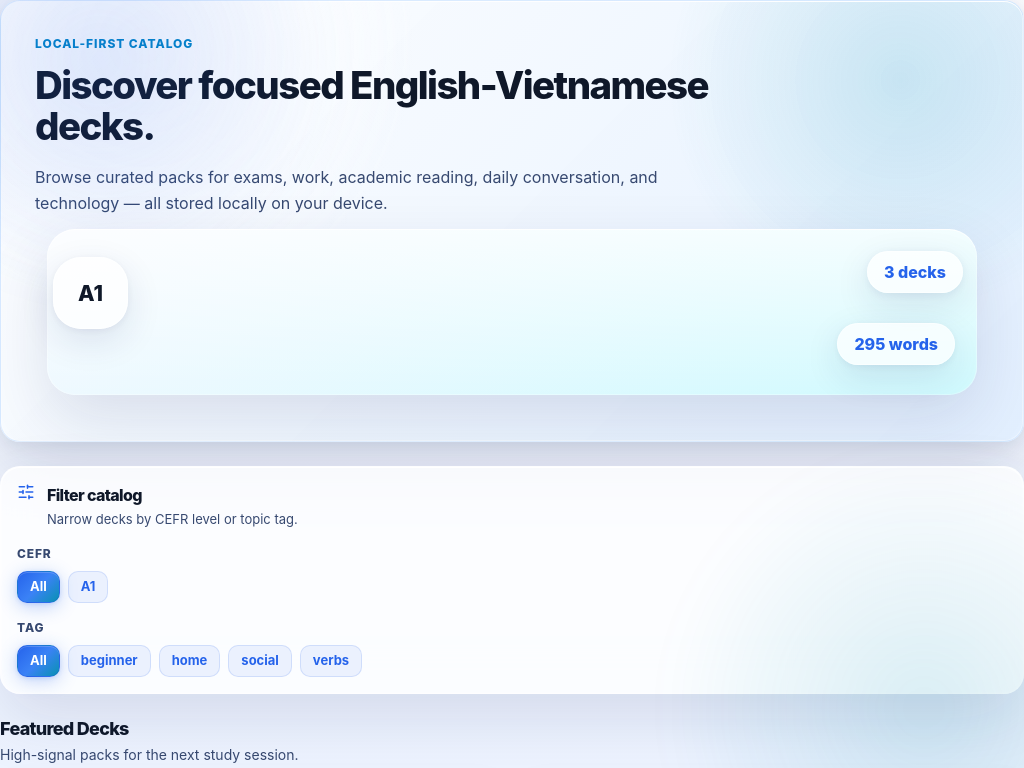
DiscoverPage › tag filter narrows deck list, resetting restores all decks
The width and height of the screenshot is (1024, 768).
// Filter to a single-deck tag
Click the button "verbs". click: (331, 661)
box: [300,645,362,677]
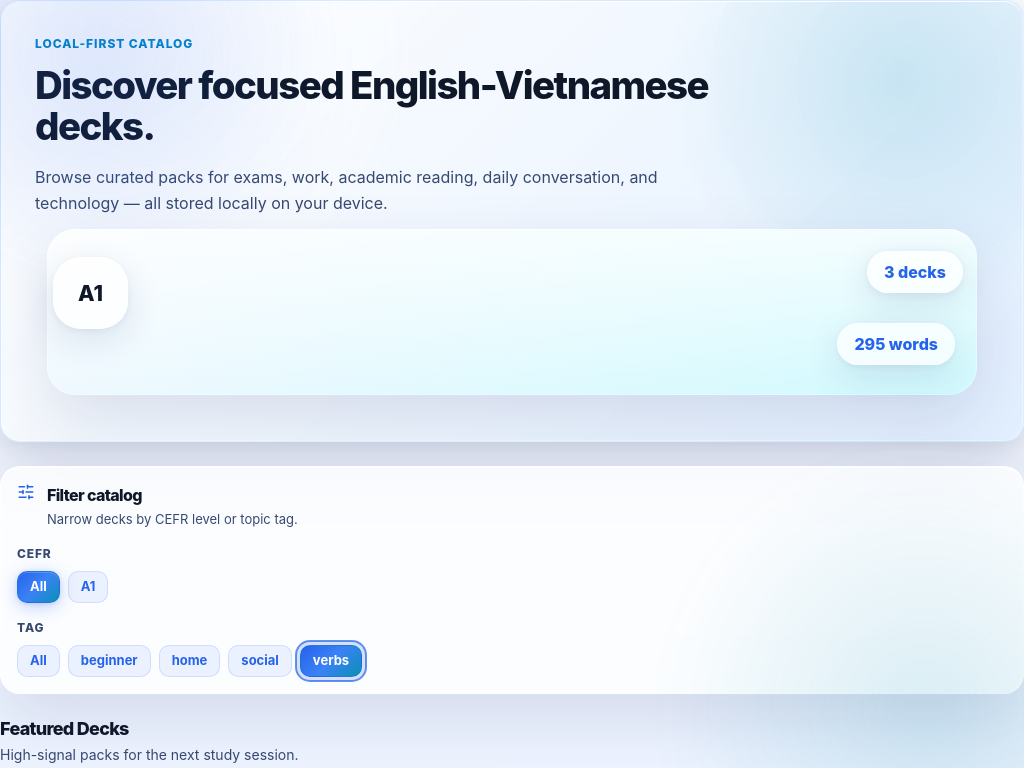
Expected: the text "Around the House" is not shown
// Reset via the Tag group's "All" button (scoped to avoid the CEFR "All")
Click the 2nd button "All". click: (38, 661)
box: [17,645,60,677]
(page scrolled)
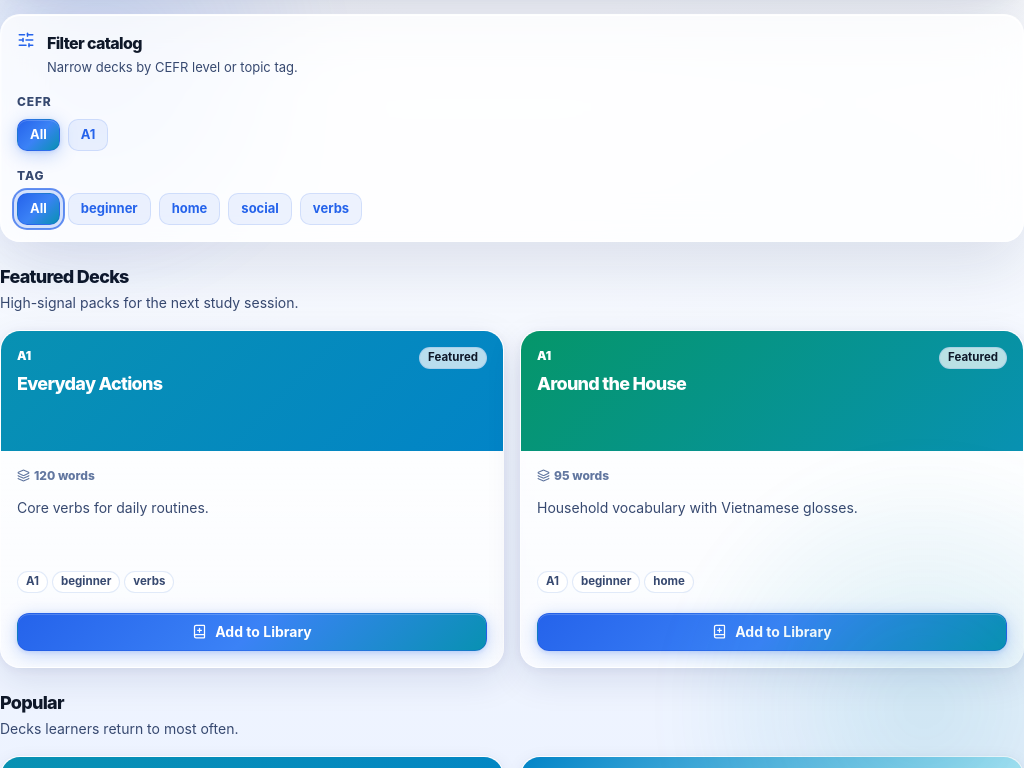
Result: the heading "Around the House" is shown at [537,373,686,394]
